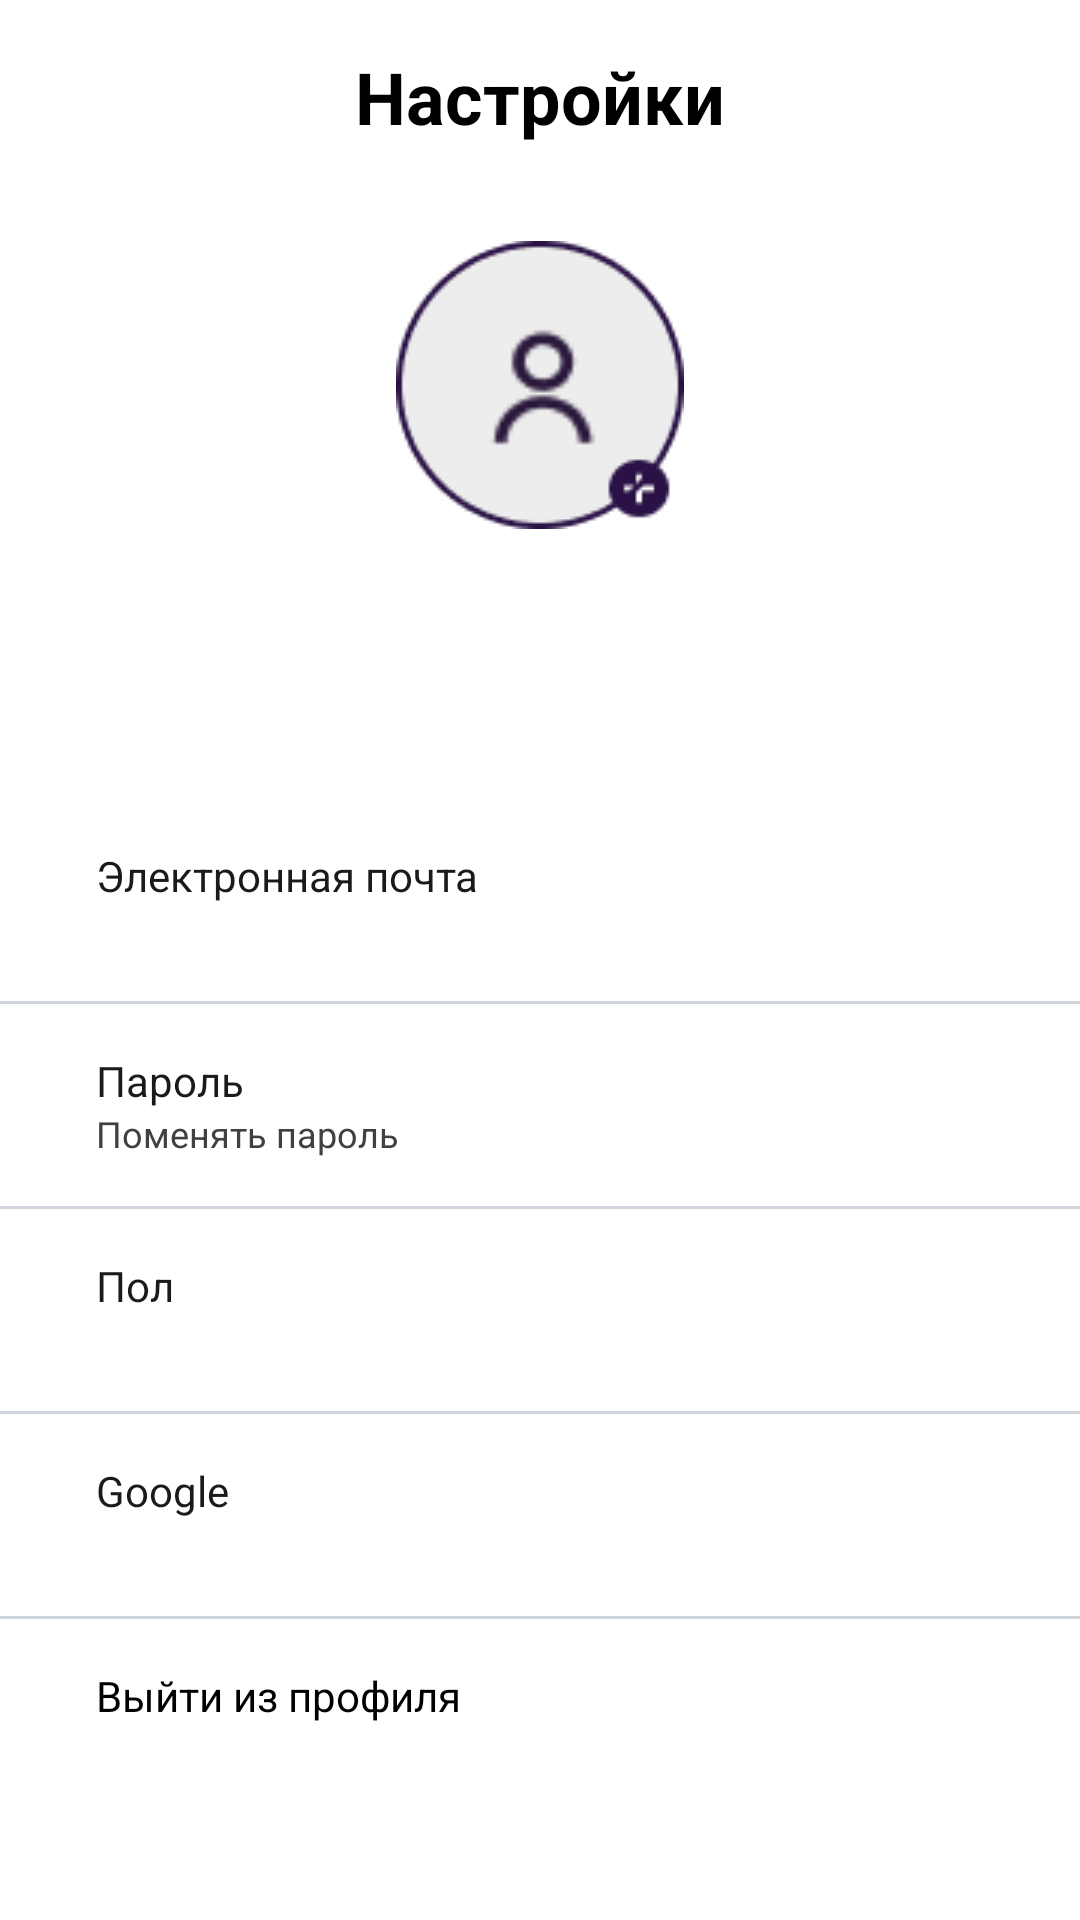

Point at icon controls on the screen. Image size 1080*1920, points as point (x, y).
Фото профиля: point (540, 385)
